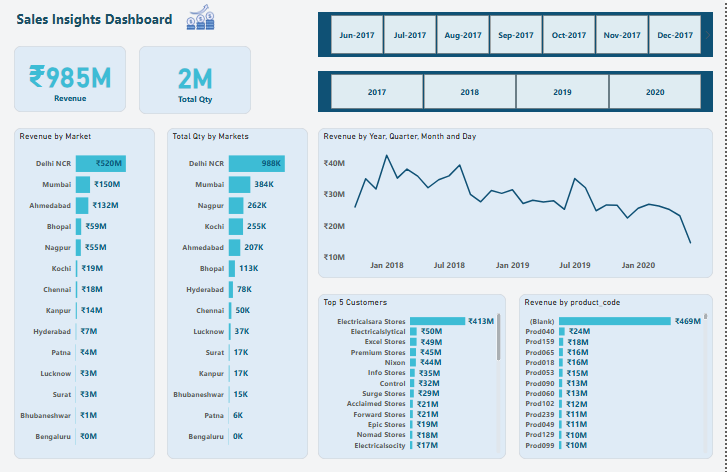

This screenshot's page, from the dashboard's own definition file:
{"tool":"powerbi","page":{"name":"Key Insights","canvas":[1450,950],"ordinal":0},"visuals":[{"type":"card","fields":{"Values":["Basemeasures.Revenue"]},"box":[28,92,224,132],"z":0},{"type":"card","fields":{"Values":["Basemeasures.Total Qty"]},"box":[278,92,224,136],"z":1000},{"type":"clusteredBarChart","title":"Revenue by Market","fields":{"Y":["Basemeasures.Revenue"],"Category":["sales markets.markets_name"]},"box":[28,256,282,662],"z":2000},{"type":"clusteredBarChart","title":"Total Qty by Markets","fields":{"Y":["Basemeasures.Total Qty"],"Category":["sales markets.markets_name"]},"box":[334,256,282,662],"z":3000},{"type":"clusteredBarChart","title":"Top 5 Customers","fields":{"Category":["sales customers.custmer_name"],"Y":["Basemeasures.Revenue"]},"box":[636,588,376,330],"z":4000},{"type":"barChart","fields":{"Category":["sales products.product_code"],"Y":["Basemeasures.Revenue"]},"box":[1038,588,388,330],"z":5000},{"type":"lineChart","fields":{"Y":["Basemeasures.Revenue"],"Category":["sales date.cy_date.Variation.Date Hierarchy.Year","sales date.cy_date.Variation.Date Hierarchy.Quarter","sales date.cy_date.Variation.Date Hierarchy.Month","sales date.cy_date.Variation.Date Hierarchy.Day"]},"box":[636,256,790,300],"z":6000},{"type":"slicer","fields":{"Values":["sales date.year"]},"box":[636,142,790,82],"z":7000},{"type":"slicer","fields":{"Values":["sales date.cy_date"]},"box":[636,24,790,90],"z":8000},{"type":"textbox","box":[28.3,13.3,356.7,55],"z":9000},{"type":"image","box":[356.7,0,90,68.3],"z":10000}]}

Visuals, with their boxes in screenshot pixels (x1, y1, x2, y2), scaled from the page's 1450x950 canvas onto the 727x472 screenshot:
card - Basemeasures.Revenue: bbox=[14, 46, 126, 111]
card - Basemeasures.Total Qty: bbox=[139, 46, 252, 113]
"Revenue by Market" clusteredBarChart: bbox=[14, 127, 155, 456]
"Total Qty by Markets" clusteredBarChart: bbox=[167, 127, 309, 456]
"Top 5 Customers" clusteredBarChart: bbox=[319, 292, 507, 456]
barChart - sales products.product_code x Basemeasures.Revenue: bbox=[520, 292, 715, 456]
lineChart - Basemeasures.Revenue x sales date.cy_date.Variation.Date Hierarchy.Year: bbox=[319, 127, 715, 276]
slicer - sales date.year: bbox=[319, 71, 715, 111]
slicer - sales date.cy_date: bbox=[319, 12, 715, 57]
textbox: bbox=[14, 7, 193, 34]
image: bbox=[179, 0, 224, 34]
